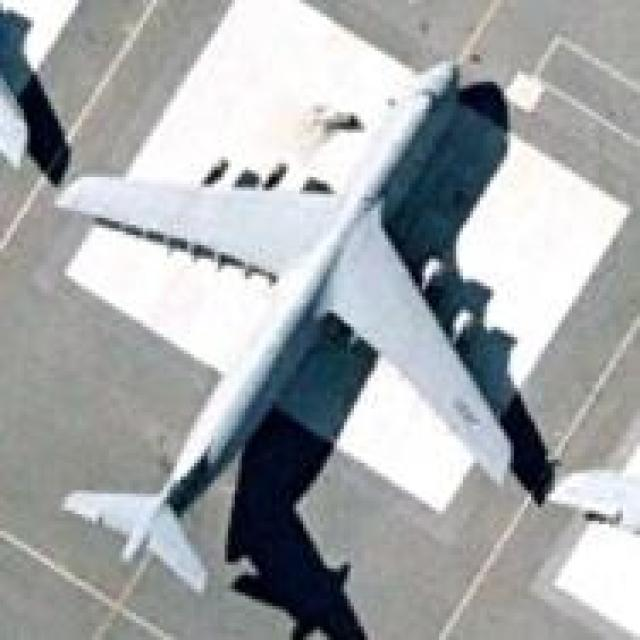C-5_TopDown: (41, 51, 570, 640)
